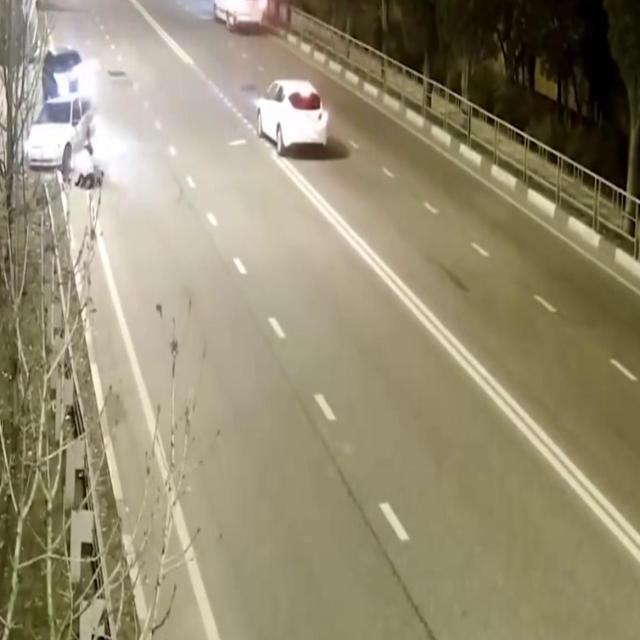accident: (21, 79, 109, 203)
